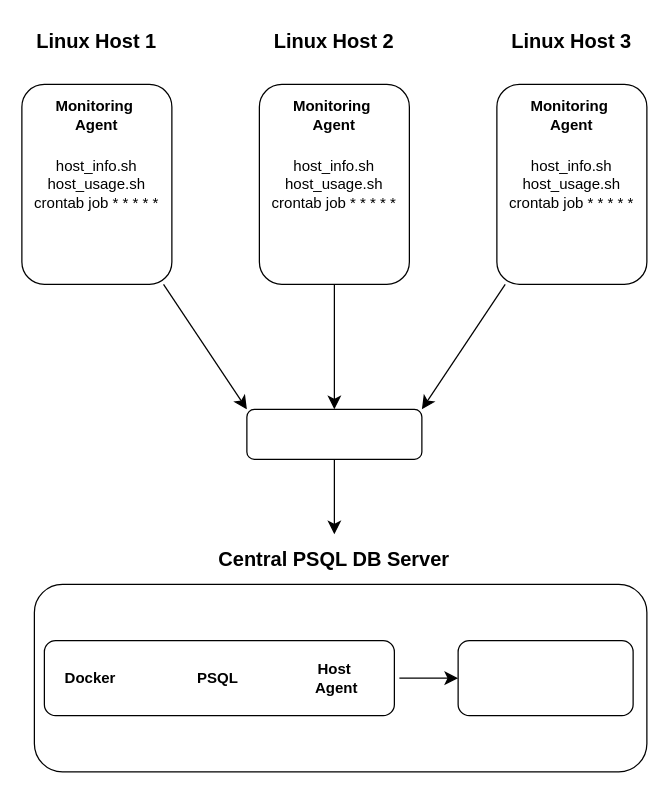
The diagram is 669 pixels wide and 794 high, and some of its shapes have lost their labels. Each missing label, with the centre of its shape:
pgdata (docker volume): [545,677]
Port 5432: [334,433]
